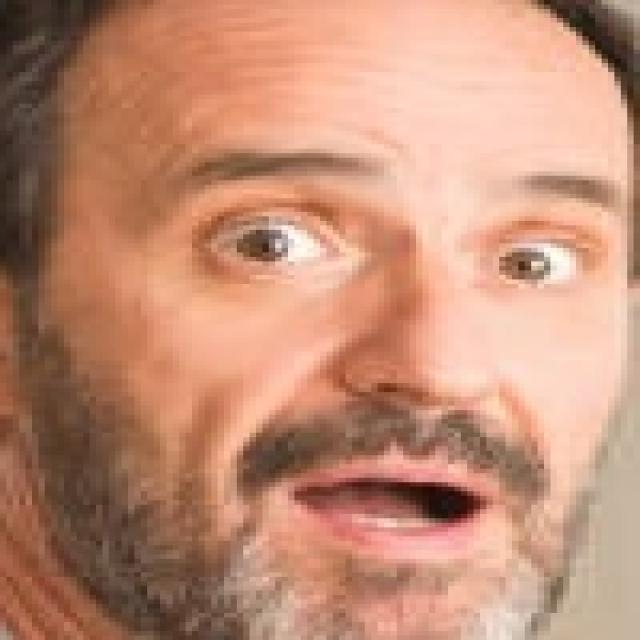Anxiety: (38, 3, 633, 635)
